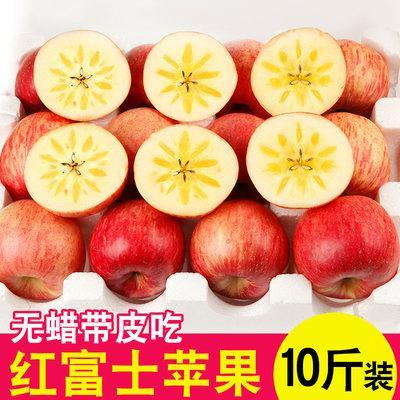apple: (292, 193, 400, 301), (186, 198, 290, 302), (22, 121, 130, 220), (245, 113, 355, 209), (87, 196, 184, 302), (134, 123, 240, 216), (31, 27, 132, 121), (141, 30, 238, 122), (249, 26, 346, 116), (1, 198, 84, 300), (1, 111, 66, 201), (325, 111, 390, 197), (332, 39, 387, 116)
